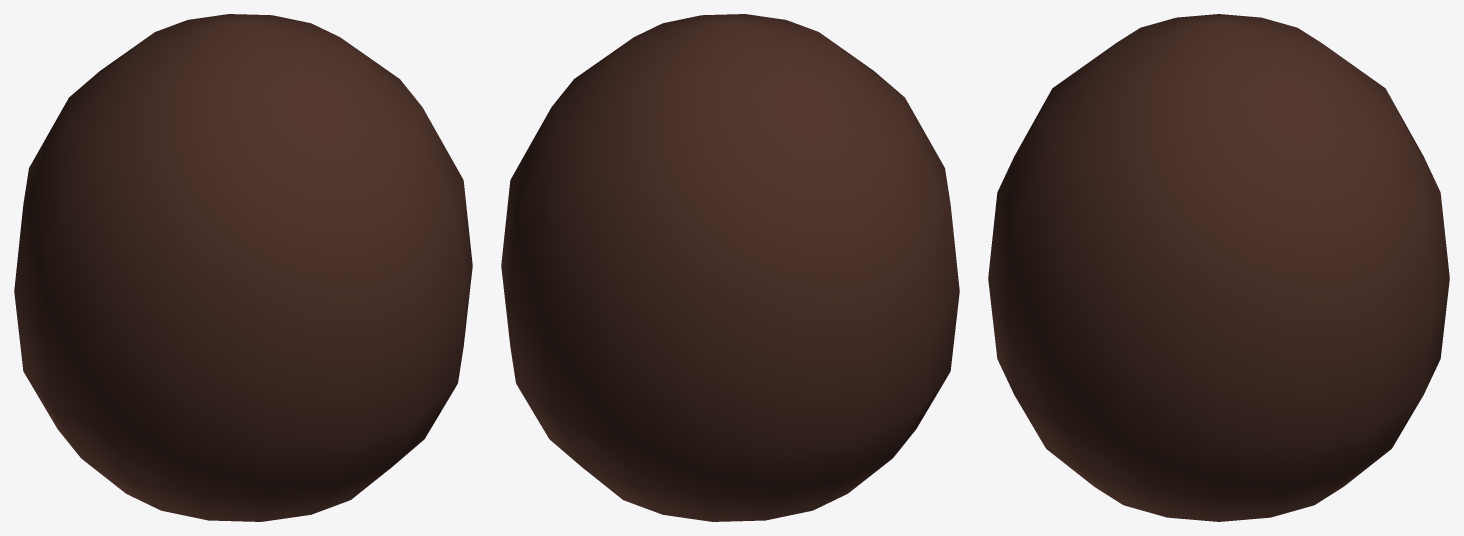
File: coconut.glb
The picture shows the model from 3 angles, left to right: view 1: azimuth 30°, elevation 25°; view 2: azimuth 150°, elevation 25°; view 3: azimuth 270°, elevation 25°; orthographic projection.
Visible parts, largest first — view 1: coconut; view 2: coconut; view 3: coconut.
Boxes of the visible parts, left/top/right/bottom form: coconut: left=14, top=14, right=472, bottom=521; coconut: left=501, top=14, right=959, bottom=521; coconut: left=988, top=14, right=1449, bottom=521.
Bounding box in the file's own units: 0.1904 × 0.2156 × 0.1904.
